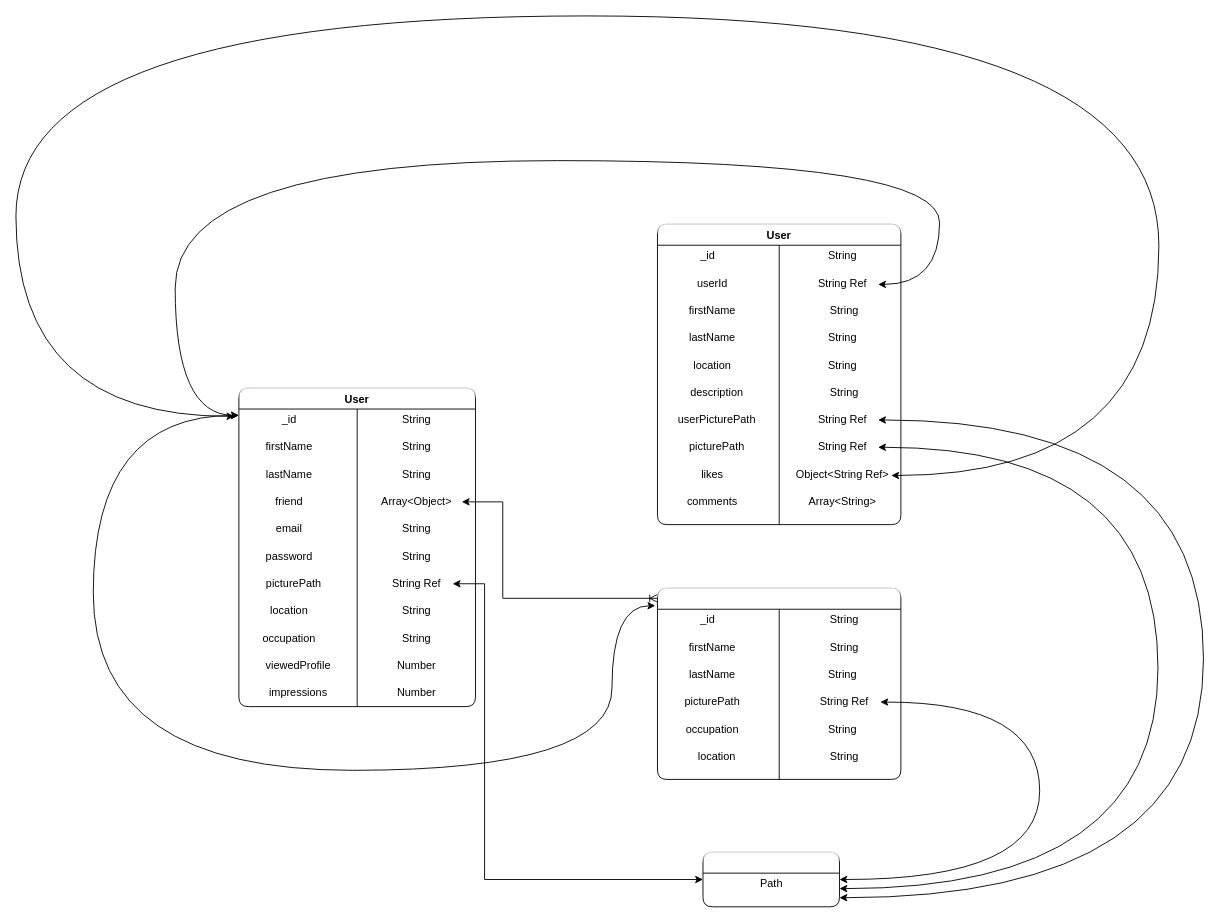
This 1219x923 diagram has some shape labels left out. Here are the shapes that lost their labels. From the top down, the box of each, then its label:
(657, 587, 901, 779): Friend (sub Doc)
(702, 851, 839, 907): Images
